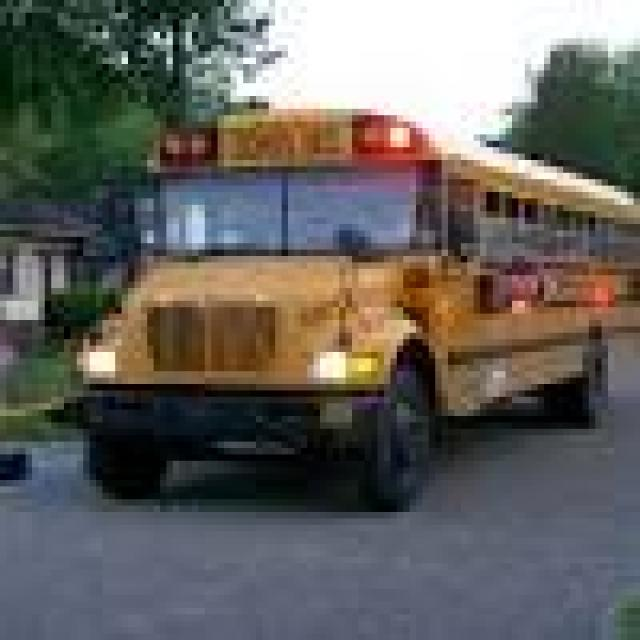BUS: (44, 96, 634, 531)
